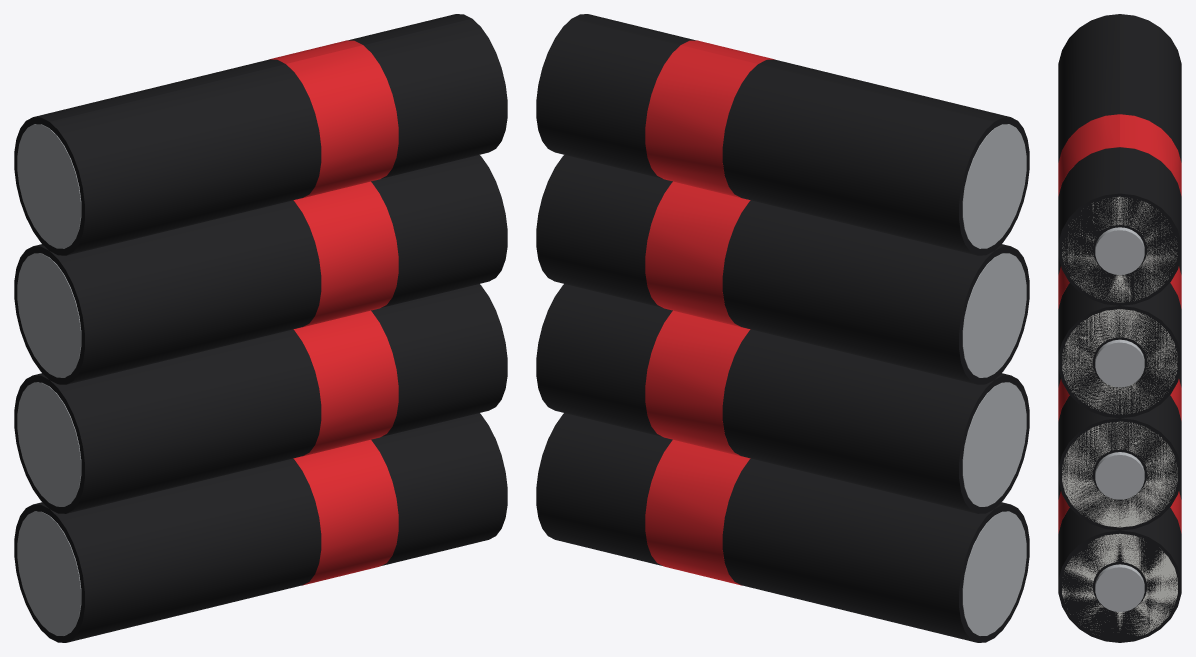
File: varta-aa-4pack-bb.glb
3 renders of one model, left to right at view 1: azimuth 30°, elevation 25°; view 2: azimuth 150°, elevation 25°; view 3: azimuth 270°, elevation 25°, orthographic. The views are drawn at different scales.
Visible parts, largest first — view 1: cell_4, cell_1, cell_2, cell_3, cell_4_band, cell_1_band, cell_3_band, cell_2_band, cell_1_negative_end, cell_2_negative_end, cell_3_negative_end, cell_4_negative_end; view 2: cell_4, cell_1, cell_2, cell_3, cell_4_band, cell_1_band, cell_3_band, cell_2_band, cell_1_negative_end, cell_2_negative_end, cell_3_negative_end, cell_4_negative_end; view 3: cell_4, cell_3, cell_2, cell_1, cell_2_insulator, cell_3_insulator, cell_1_insulator, cell_4_band, cell_4_insulator, cell_2_positive_cap, cell_3_positive_cap, cell_4_positive_cap (+4 smaller).
Part boxes in pixels (left/top/right/bottom): cell_4: left=14, top=14, right=507, bottom=255; cell_1: left=14, top=413, right=507, bottom=642; cell_2: left=14, top=284, right=507, bottom=513; cell_3: left=14, top=155, right=507, bottom=384; cell_4_band: left=269, top=40, right=398, bottom=198; cell_1_band: left=293, top=440, right=398, bottom=585; cell_3_band: left=293, top=181, right=398, bottom=327; cell_2_band: left=293, top=310, right=398, bottom=456; cell_1_negative_end: left=17, top=511, right=81, bottom=635; cell_2_negative_end: left=17, top=382, right=81, bottom=506; cell_3_negative_end: left=17, top=253, right=81, bottom=377; cell_4_negative_end: left=17, top=124, right=81, bottom=248; cell_4: left=536, top=14, right=1029, bottom=255; cell_1: left=536, top=413, right=1029, bottom=642; cell_2: left=536, top=284, right=1029, bottom=513; cell_3: left=536, top=155, right=1029, bottom=384; cell_4_band: left=645, top=40, right=774, bottom=198; cell_1_band: left=645, top=440, right=750, bottom=585; cell_3_band: left=645, top=181, right=750, bottom=327; cell_2_band: left=645, top=310, right=750, bottom=456; cell_1_negative_end: left=962, top=511, right=1026, bottom=635; cell_2_negative_end: left=962, top=382, right=1026, bottom=506; cell_3_negative_end: left=962, top=253, right=1026, bottom=377; cell_4_negative_end: left=962, top=124, right=1026, bottom=248; cell_4: left=1058, top=14, right=1181, bottom=305; cell_3: left=1058, top=257, right=1181, bottom=418; cell_2: left=1058, top=369, right=1181, bottom=530; cell_1: left=1058, top=481, right=1181, bottom=642; cell_2_insulator: left=1062, top=421, right=1177, bottom=527; cell_3_insulator: left=1062, top=309, right=1177, bottom=414; cell_1_insulator: left=1062, top=533, right=1177, bottom=635; cell_4_band: left=1058, top=114, right=1181, bottom=195; cell_4_insulator: left=1062, top=196, right=1177, bottom=302; cell_2_positive_cap: left=1095, top=452, right=1144, bottom=499; cell_3_positive_cap: left=1095, top=339, right=1144, bottom=387; cell_4_positive_cap: left=1095, top=227, right=1144, bottom=274.
Bounding box in the file's own units: 50.55 × 58.04 × 14.43.
